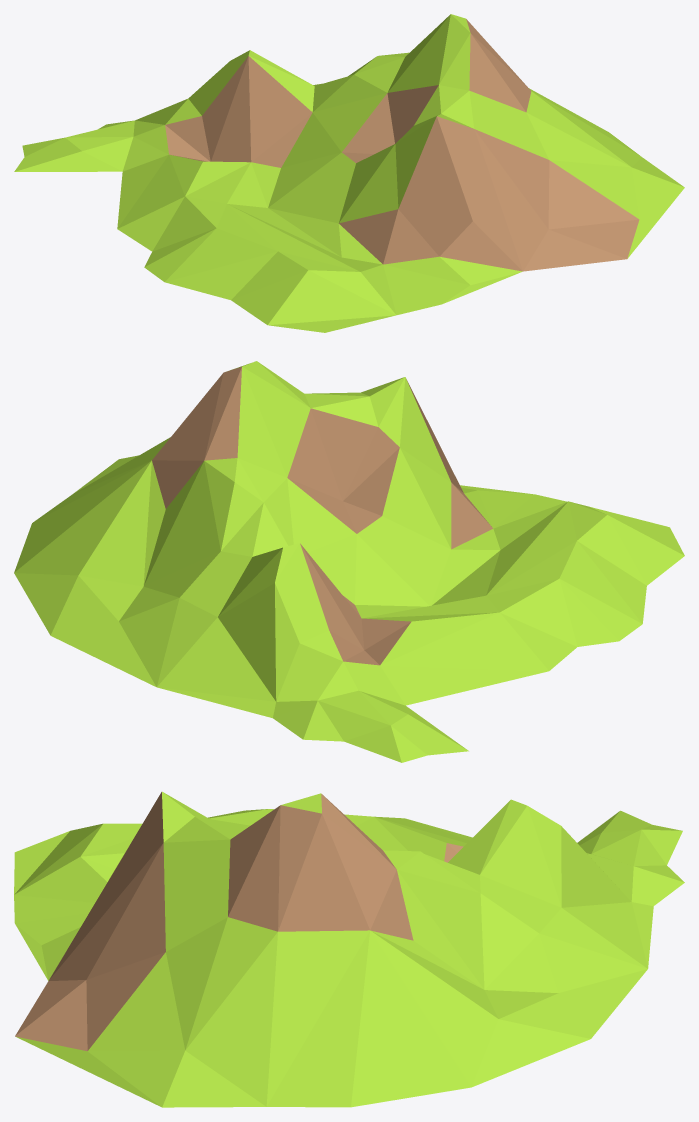
The model's file is Mountain2.fbx.
3 views of the same model, one above another, from view 1: azimuth 30°, elevation 25°; view 2: azimuth 150°, elevation 25°; view 3: azimuth 270°, elevation 25° (orthographic). The views are drawn at different scales.
Parts seen in each view (by area): view 1: generic_mountain_2; view 2: generic_mountain_2; view 3: generic_mountain_2.
Part boxes in pixels (<box>): generic_mountain_2: <box>14,14,684,332</box>; generic_mountain_2: <box>14,361,684,762</box>; generic_mountain_2: <box>14,791,684,1107</box>.
Size of the model in its own units: 27616 by 9126 by 26368.
